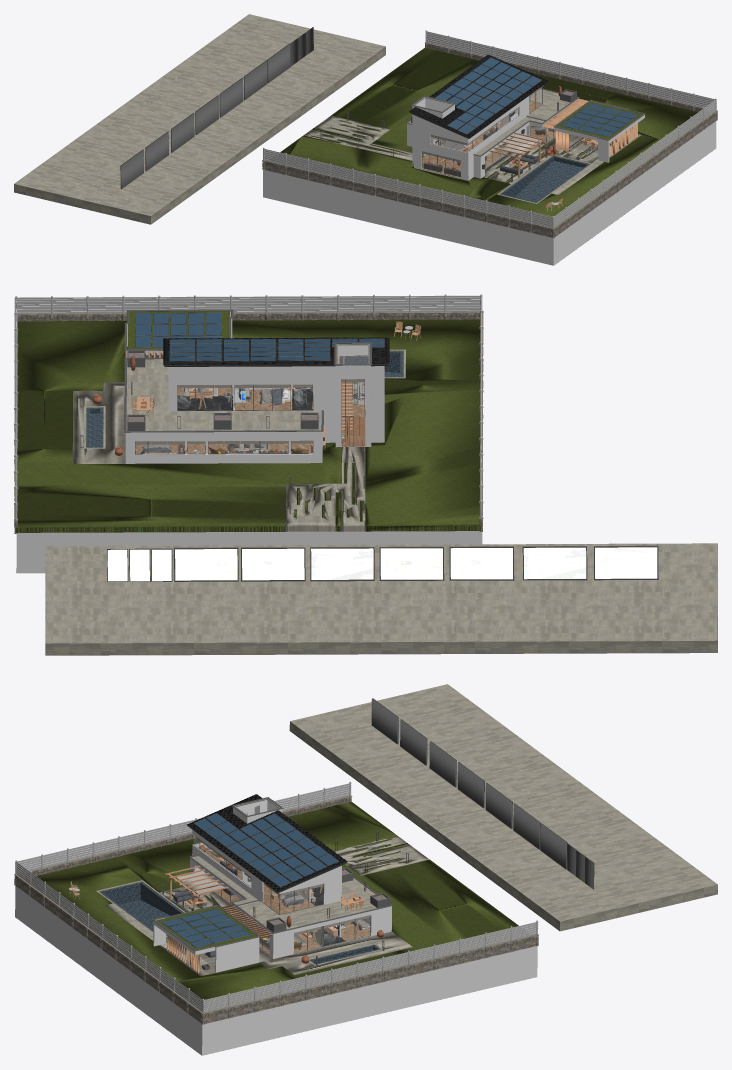
File: dxb-villa.glb
3 renders of one model, top to bottom at view 1: azimuth 30°, elevation 25°; view 2: azimuth 150°, elevation 25°; view 3: azimuth 270°, elevation 25°, orthographic. The views are drawn at different scales.
Parts seen in each view (by area): view 1: Exterior walls.008_Terrace tiles_0, Exterior walls.008_Grass_0, Lightblocker.001_Clear_0, Fence Pole.008_White wood_0, Exterior walls.008_Dark metal_0, Fence Pole.008_Cobblestone_0, Roof.005_Plaster_0, Solar panels.002_Solar panel_0, Plane.194_Constructive wood_0, Roof tiles.003_Painted stone dark_0, Pool_Infinity pool tiles_0, Glass folding door.091_Glass_0 (+5 smaller); view 2: Exterior walls.008_Terrace tiles_0, Exterior walls.008_Grass_0, Roof.005_Plaster_0, Fence Pole.008_White wood_0, Exterior walls.008_Dark metal_0, Lightblocker.001_Clear_0, Solar panels.002_Solar panel_0, Glass folding door.091_Glass_0, Fence Pole.008_Cobblestone_0, Plane.194_Constructive wood_0, Plane.002_Material.003_0, Plane.006_Material.005_0 (+14 smaller); view 3: Exterior walls.008_Terrace tiles_0, Exterior walls.008_Grass_0, Lightblocker.001_Clear_0, Exterior walls.008_Dark metal_0, Fence Pole.008_White wood_0, Fence Pole.008_Cobblestone_0, Roof.005_Plaster_0, Solar panels.002_Solar panel_0, Glass folding door.091_Glass_0, Plane.194_Constructive wood_0, Roof tiles.003_Painted stone dark_0, Pool_Infinity pool tiles_0 (+3 smaller).
Boxes of the visible parts, box(x1,y1,x2,y2) form: Exterior walls.008_Terrace tiles_0: box(14, 14, 641, 224); Exterior walls.008_Grass_0: box(280, 48, 705, 225); Lightblocker.001_Clear_0: box(263, 121, 716, 265); Fence Pole.008_White wood_0: box(263, 30, 716, 228); Exterior walls.008_Dark metal_0: box(120, 27, 645, 205); Fence Pole.008_Cobblestone_0: box(262, 43, 717, 238); Roof.005_Plaster_0: box(407, 85, 644, 180); Solar panels.002_Solar panel_0: box(435, 58, 637, 136); Plane.194_Constructive wood_0: box(435, 94, 637, 211); Roof tiles.003_Painted stone dark_0: box(409, 54, 548, 138); Pool_Infinity pool tiles_0: box(500, 156, 589, 202); Glass folding door.091_Glass_0: box(417, 87, 554, 177); Exterior walls.008_Terrace tiles_0: box(45, 349, 717, 655); Exterior walls.008_Grass_0: box(15, 311, 481, 532); Roof.005_Plaster_0: box(125, 311, 384, 463); Fence Pole.008_White wood_0: box(14, 294, 482, 519); Exterior walls.008_Dark metal_0: box(80, 309, 658, 581); Lightblocker.001_Clear_0: box(16, 387, 482, 573); Solar panels.002_Solar panel_0: box(135, 313, 384, 360); Glass folding door.091_Glass_0: box(136, 345, 367, 453); Fence Pole.008_Cobblestone_0: box(14, 313, 483, 533); Plane.194_Constructive wood_0: box(126, 321, 421, 453); Plane.002_Material.003_0: box(175, 549, 237, 580); Plane.006_Material.005_0: box(311, 548, 373, 579); Exterior walls.008_Terrace tiles_0: box(96, 684, 717, 976); Exterior walls.008_Grass_0: box(26, 802, 518, 1009); Lightblocker.001_Clear_0: box(15, 886, 537, 1055); Exterior walls.008_Dark metal_0: box(152, 698, 594, 966); Fence Pole.008_White wood_0: box(15, 781, 538, 1013); Fence Pole.008_Cobblestone_0: box(14, 796, 538, 1024); Roof.005_Plaster_0: box(153, 800, 391, 972); Solar panels.002_Solar panel_0: box(162, 813, 338, 947); Glass folding door.091_Glass_0: box(194, 800, 369, 953); Plane.194_Constructive wood_0: box(69, 850, 370, 973); Roof tiles.003_Painted stone dark_0: box(186, 794, 347, 892); Pool_Infinity pool tiles_0: box(99, 882, 379, 964).
Size of what is drawn, in the model's own units: 84.45 by 12.49 by 74.76.
Materials: 68 (33 with a texture image).
